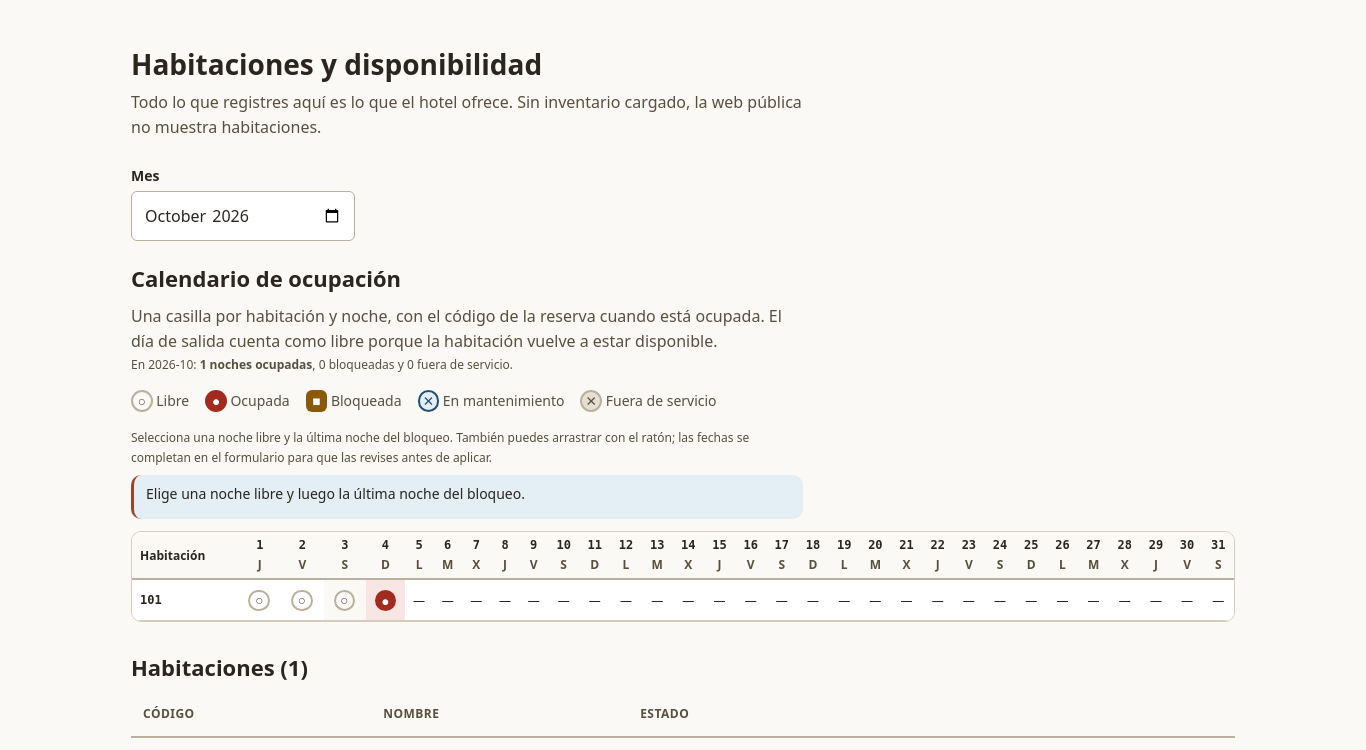
Test: prioridad del alta inicial del inventario › elige un rango libre y rellena el formulario sin bloquear hasta confirmar
The width and height of the screenshot is (1366, 750).
Click the button named "Habitación 101, noche 2026-10-01, libre" at (259, 600), box [238,580,280,620]
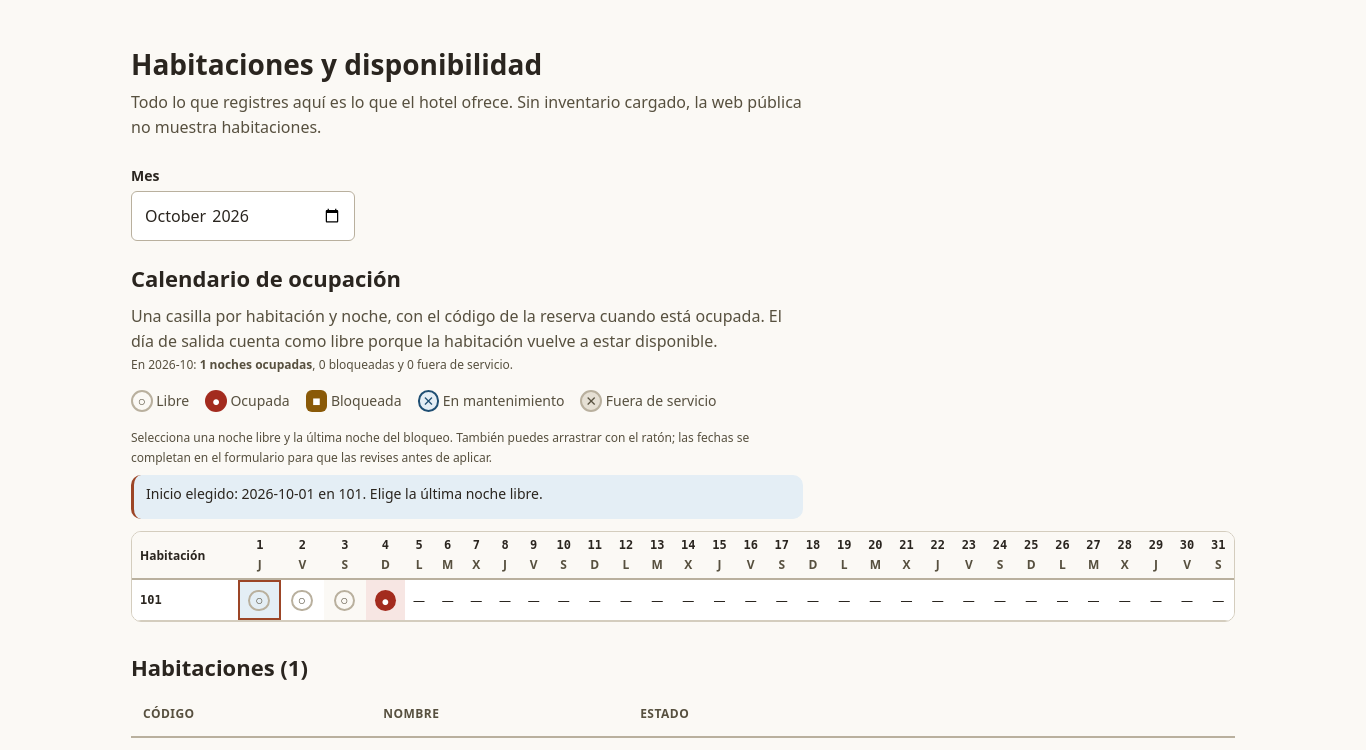
Click the button named "Habitación 101, noche 2026-10-03, libre" at (344, 600), box [324,580,365,620]
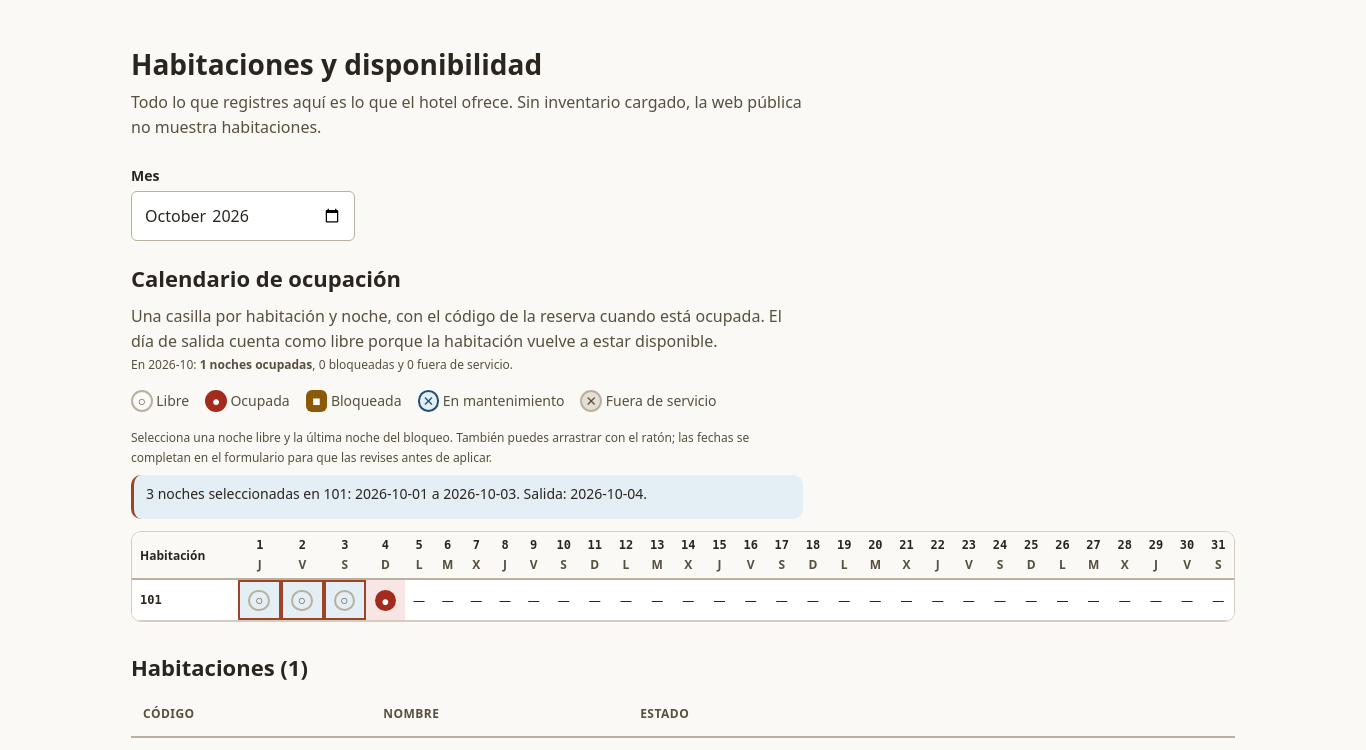
Expected: the message named "Selección de noches" shows "3 noches", [146,484,647,503]
Expected: the message named "Selección de noches" shows "2026-10-04", [146,484,647,503]
